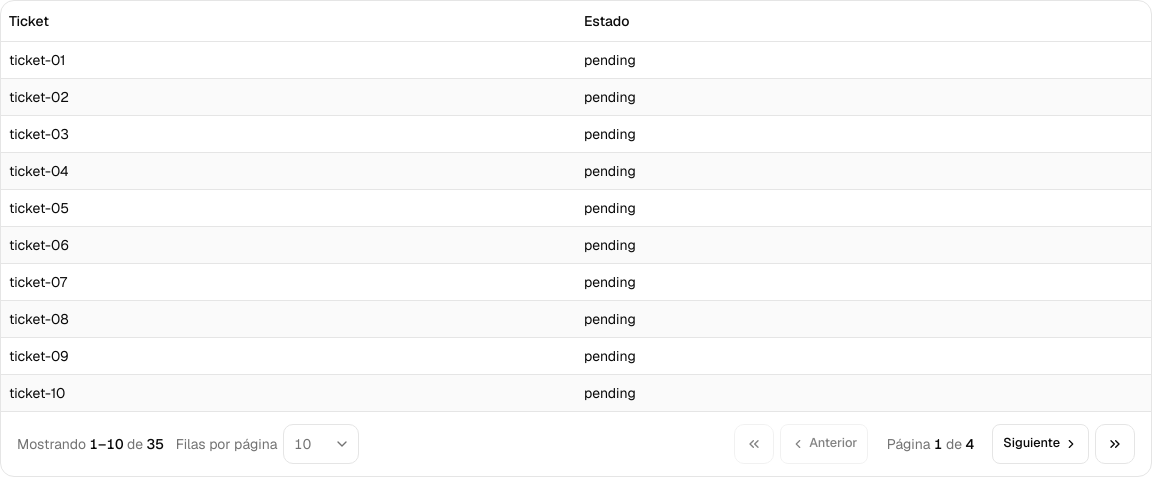
Test: DataTable pagination › keeps the current page when polling replaces the rows with updated records
Click the button "Siguiente" at (1041, 444), box [992,424,1089,464]
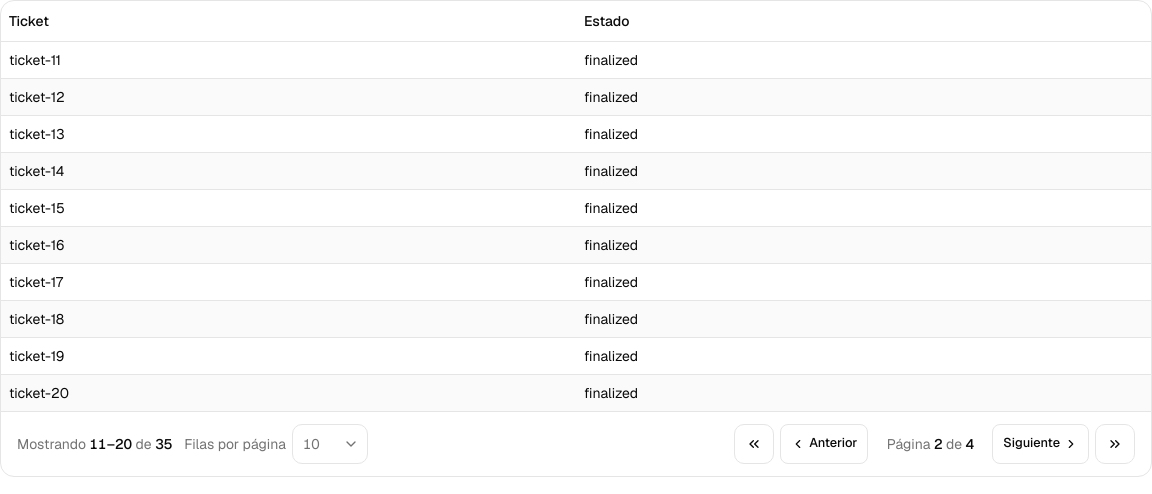
Expected: the text "Página 2 de 4" is shown, [887,434,974,452]
Expected: the table shows "ticket-11", [9,50,61,68]
Expected: the table shows "finalized", [584,50,638,68]
